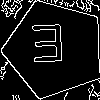E: (30, 24, 66, 72)
